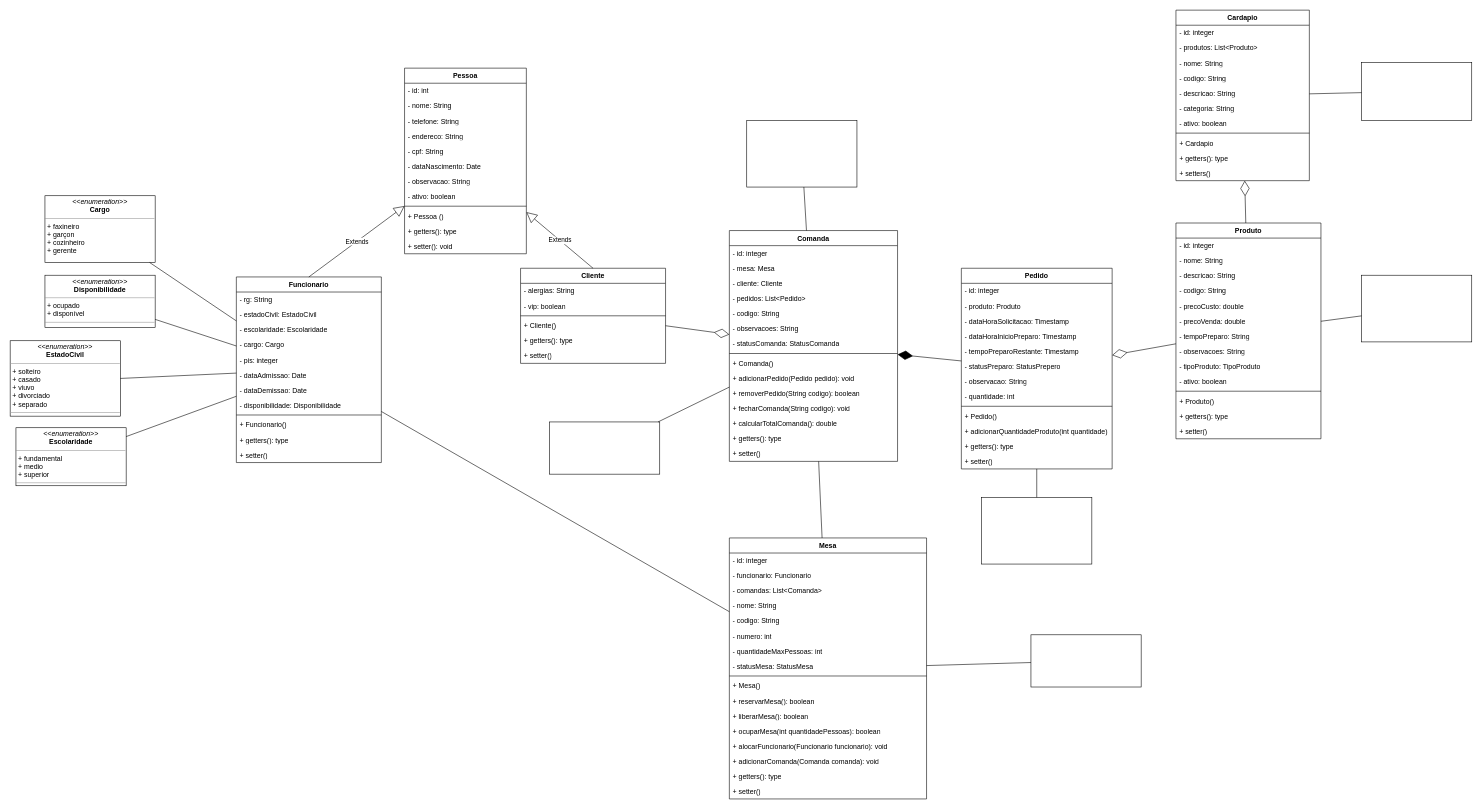
The diagram is 1482 pixels wide and 811 high, and some of its shapes have lost their labels. Each missing label, with the centre of its shape:
<<enumeartion>> StatusComanda + ativo + inativo: the point at 604,447
<<enumeartion>> StatusMesa + livre + ocupada + reservada: the point at 1085,660
<<enumeration>> CategoriaCardapio + bebidas + lanches + sobremesas: the point at 1416,91
<<enumeration>> StatusComanda + paga + fechada + em aberto: the point at 801,153
<<enumeration>> StatusPreparo + pronto + preparando + aguardando + confimado: the point at 1036,530
<<enumeration>> TipoProduto + lanches + bebidas + sobremesas: the point at 1416,308
